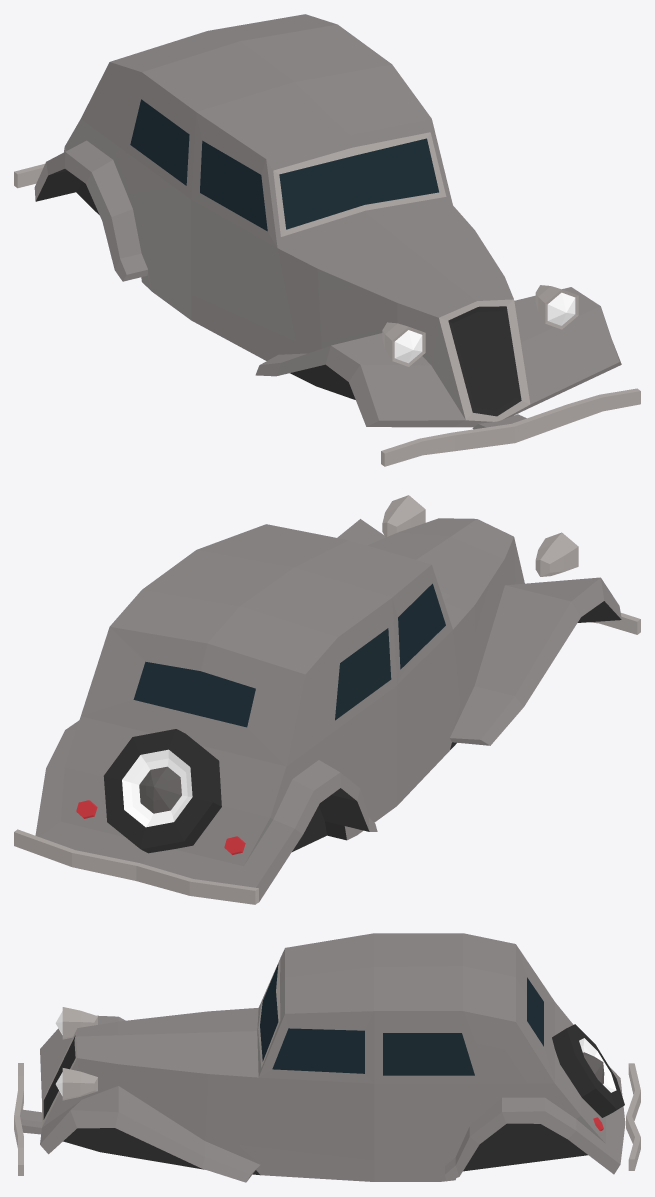
File: car-veteran-base.glb
The picture shows the model from 3 angles, top to bottom: view 1: azimuth 30°, elevation 25°; view 2: azimuth 150°, elevation 25°; view 3: azimuth 270°, elevation 25°; orthographic projection. The views are drawn at different scales.
Visible parts, largest first — view 1: car-veteran-base; view 2: car-veteran-base; view 3: car-veteran-base.
Boxes of the visible parts, bbox=[...] form: car-veteran-base: bbox=[14, 14, 640, 466]; car-veteran-base: bbox=[14, 495, 640, 904]; car-veteran-base: bbox=[14, 933, 640, 1182].
Bounding box in the file's own units: 1.69 × 1.36 × 4.4.
1 material, 1 textured.
